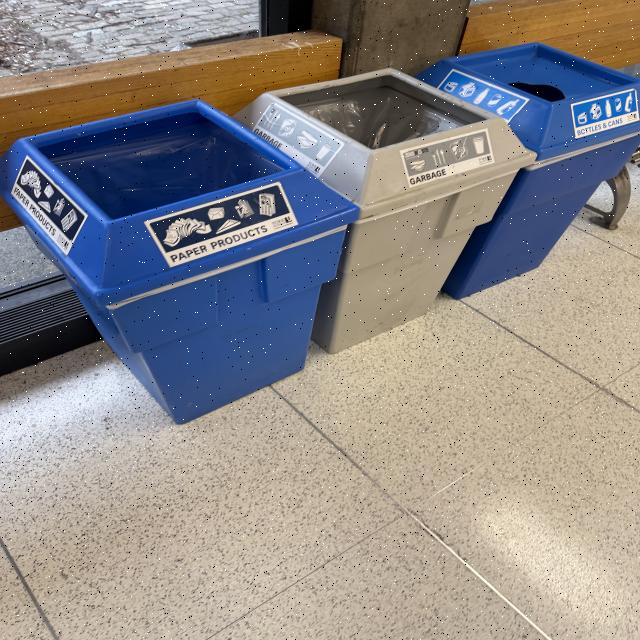Dustbin: (5, 40, 640, 428)
